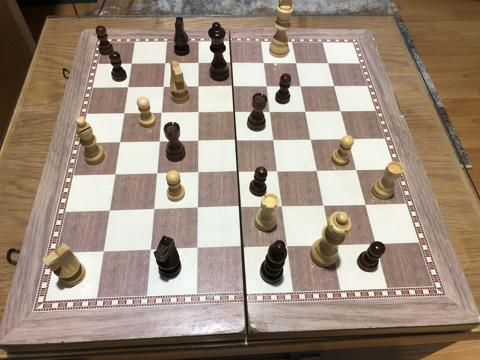xcorner: (226, 57, 238, 70), (159, 58, 172, 70), (192, 81, 205, 93), (228, 106, 241, 118), (155, 107, 168, 119), (118, 107, 130, 120), (230, 134, 242, 147), (350, 163, 362, 176), (311, 164, 324, 176), (359, 198, 372, 210), (276, 200, 289, 212), (234, 201, 246, 214), (103, 205, 116, 217), (326, 238, 338, 251), (97, 246, 109, 259), (322, 57, 334, 69), (290, 57, 302, 69), (258, 57, 270, 69), (193, 58, 205, 70), (126, 58, 138, 70), (328, 80, 340, 92), (295, 80, 307, 92), (261, 80, 273, 92), (227, 81, 239, 93), (158, 81, 170, 93), (122, 81, 134, 93), (335, 105, 347, 117), (300, 105, 312, 117), (264, 106, 276, 118), (192, 107, 204, 119), (342, 133, 354, 145), (305, 133, 317, 145), (268, 134, 280, 146), (192, 135, 204, 147), (153, 136, 165, 148), (114, 136, 126, 148), (272, 165, 284, 177), (232, 166, 244, 178), (192, 167, 204, 179), (151, 168, 163, 180), (109, 169, 121, 181), (318, 199, 330, 211), (191, 203, 203, 215), (148, 204, 160, 216), (370, 237, 382, 249), (282, 240, 294, 252), (237, 242, 249, 254), (191, 243, 203, 255), (144, 245, 156, 257)
